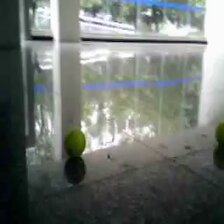tennis: (64, 130, 85, 155)
